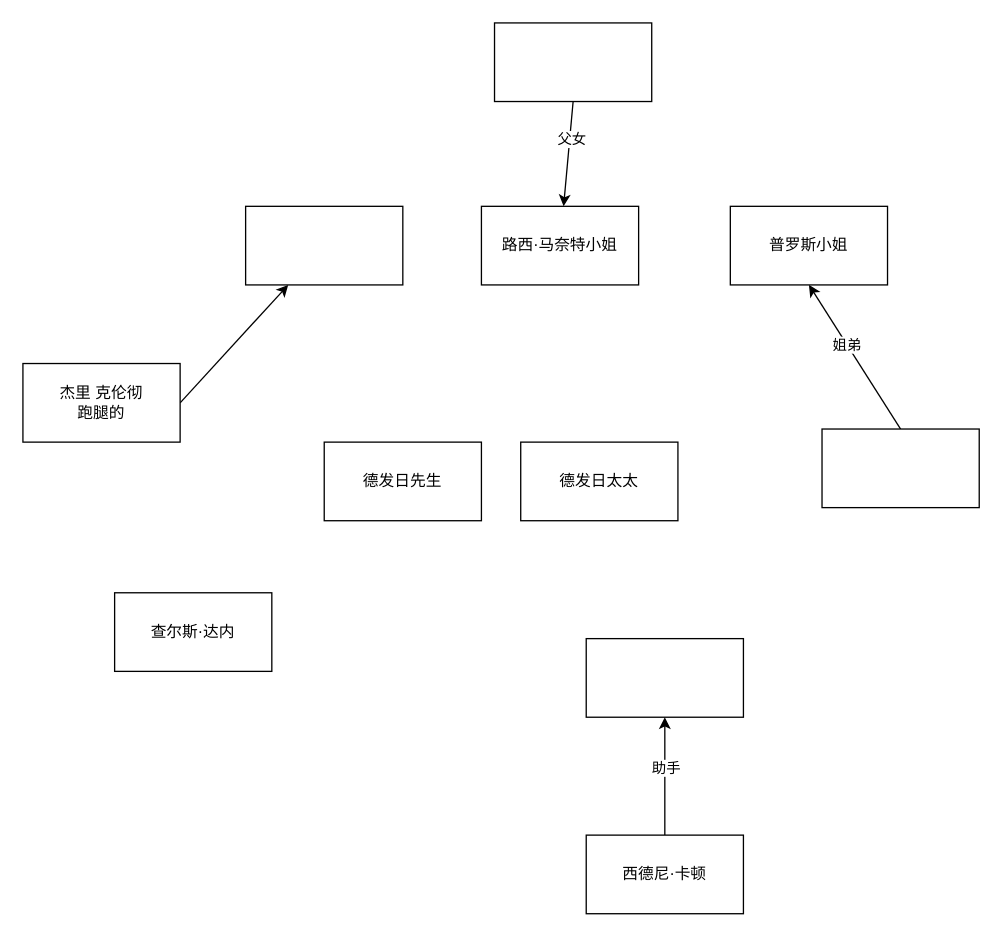
Image size: 1002x937. Some labels were removed from this diagram. The centre of each missing label's shape, as x and y in pixels:
所罗门: point 900,468
斯特里弗 律师: point 664,677
贾维斯·洛瑞 银行职工: point 323,245
马奈特先生: point 572,62
